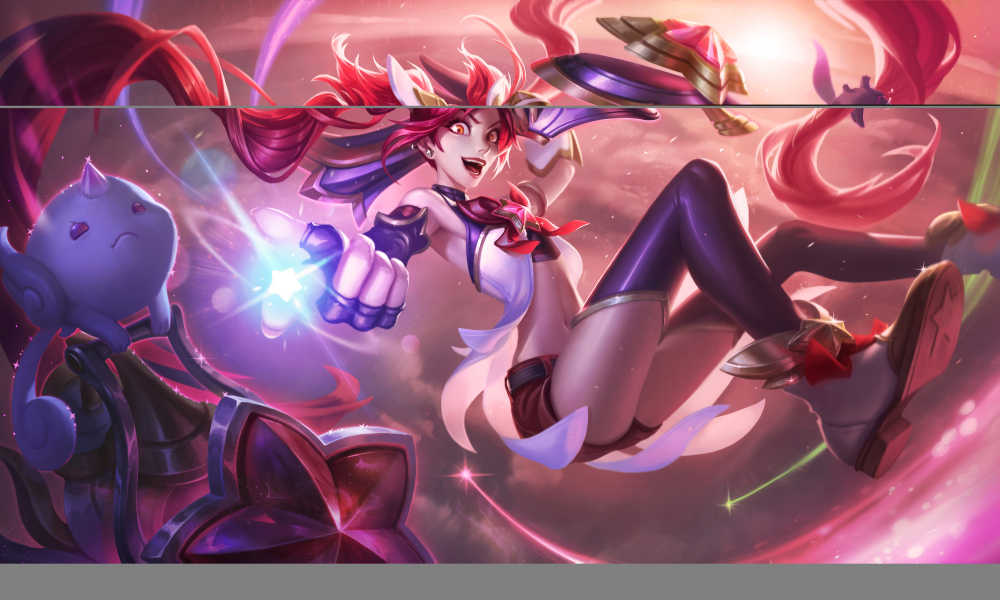face: (382, 47, 542, 202)
